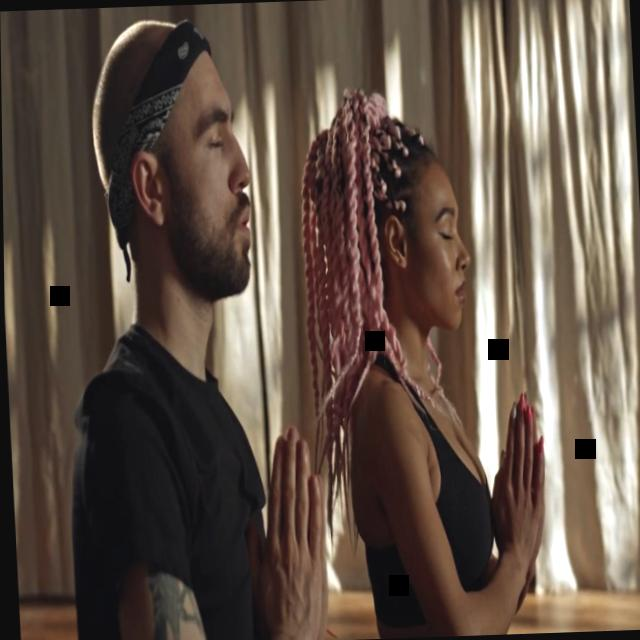NO-Mask: (150, 74, 258, 304), (400, 180, 473, 334)
